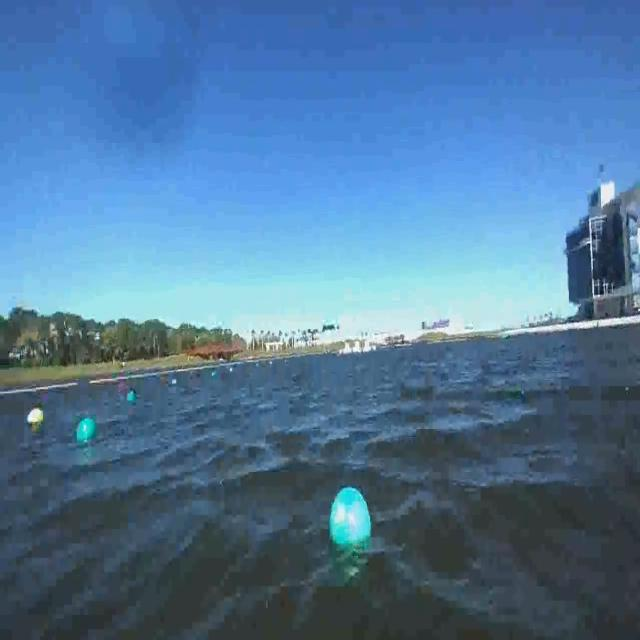green-buoy: (328, 486, 375, 551), (76, 418, 98, 446), (128, 391, 138, 404)
yellow-buoy: (29, 410, 45, 424)
